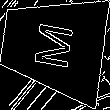M_W: (29, 19, 77, 73)
